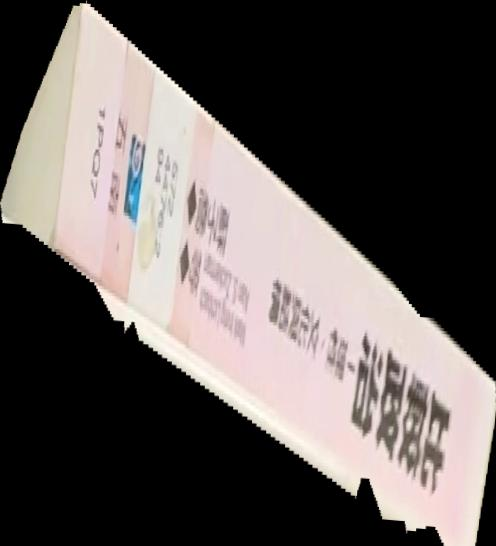flat: (1, 1, 496, 546)
